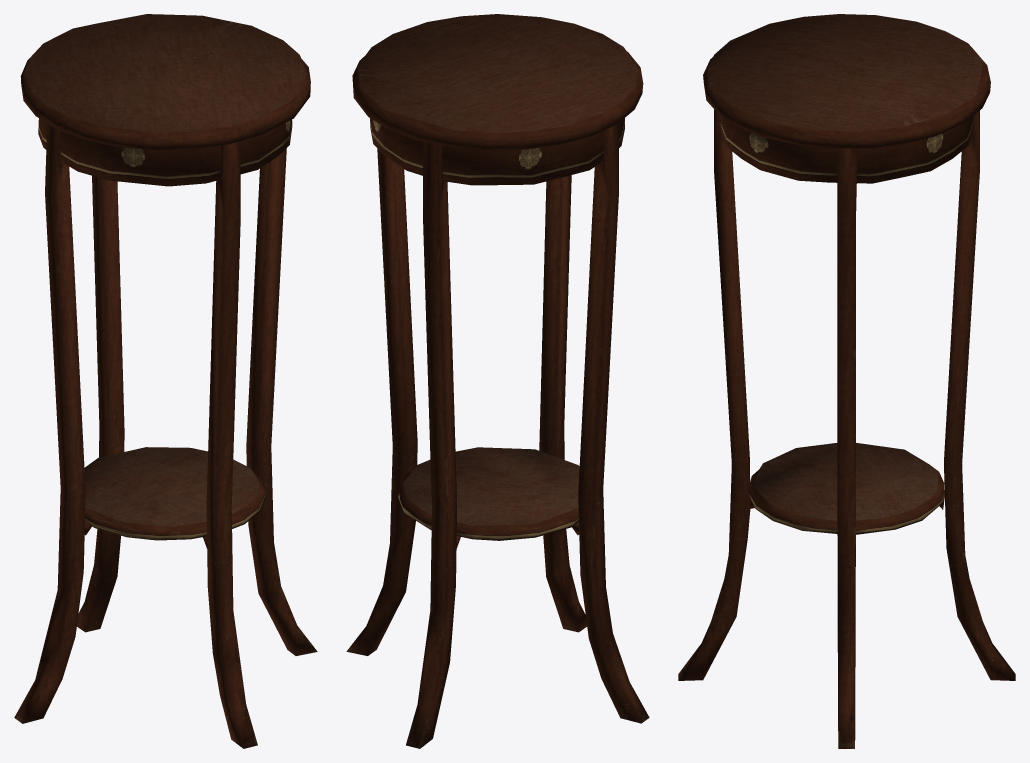
Rendered from SideTableTallLOD1.fbx.
3 renders of one model, left to right at view 1: azimuth 30°, elevation 25°; view 2: azimuth 150°, elevation 25°; view 3: azimuth 270°, elevation 25°, orthographic.
Visible parts, largest first — view 1: side_table_tall_01; view 2: side_table_tall_01; view 3: side_table_tall_01.
Part boxes in pixels (<box>): side_table_tall_01: <box>14,14,317,748</box>; side_table_tall_01: <box>346,14,649,748</box>; side_table_tall_01: <box>678,14,1015,748</box>.
Bounding box in the file's own units: 38.37 × 75.99 × 38.37.
